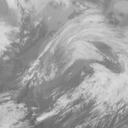cyclone: (48, 20, 120, 89)
